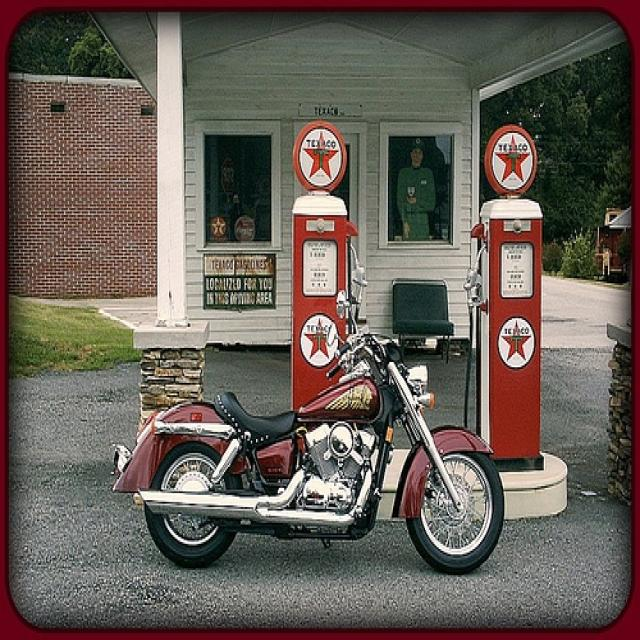texaco: (301, 129, 344, 186), (493, 134, 535, 191), (301, 314, 340, 368), (501, 318, 538, 368)
